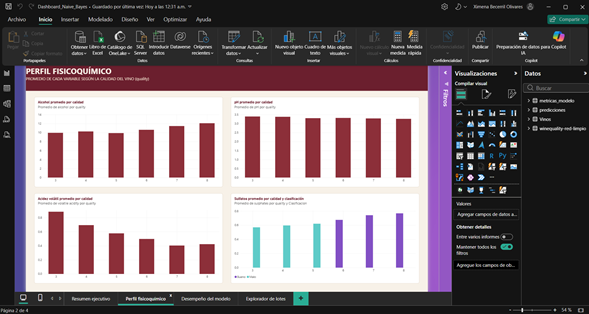

This screenshot's page, from the dashboard's own definition file:
{"tool":"powerbi","page":{"name":"Perfil fisicoquímico","canvas":[1920,1080],"ordinal":1},"visuals":[{"type":"textbox","box":[0,0,1920,120],"z":0},{"type":"clusteredColumnChart","title":"Alcohol promedio por calidad","fields":{"Category":["Vinos.quality"],"Y":["Avg(Vinos.alcohol)"]},"box":[40,150,900,430],"z":1},{"type":"clusteredColumnChart","title":"pH promedio por calidad","fields":{"Category":["Vinos.quality"],"Y":["Avg(Vinos.pH)"]},"box":[980,150,900,430],"z":2},{"type":"clusteredColumnChart","title":"Acidez volátil promedio por calidad","fields":{"Category":["Vinos.quality"],"Y":["Avg(Vinos.volatile acidity)"]},"box":[40,610,900,430],"z":3},{"type":"clusteredColumnChart","title":"Sulfatos promedio por calidad y clasificación","fields":{"Category":["Vinos.quality"],"Series":["Vinos.Clasificacion"],"Y":["Avg(Vinos.sulphates)"]},"box":[980,610,900,430],"z":4}]}

Visuals, with their boxes on the page's 1920x1080 design canvas (x1, y1, x2, y2). These are canvas units, not pixel positions in the 589x314 screenshot, which may show the page scaled, cropped or inside an application window:
textbox: (left=0, top=0, right=1920, bottom=120)
"Alcohol promedio por calidad" clusteredColumnChart: (left=40, top=150, right=940, bottom=580)
"pH promedio por calidad" clusteredColumnChart: (left=980, top=150, right=1880, bottom=580)
"Acidez volátil promedio por calidad" clusteredColumnChart: (left=40, top=610, right=940, bottom=1040)
"Sulfatos promedio por calidad y clasificación" clusteredColumnChart: (left=980, top=610, right=1880, bottom=1040)
